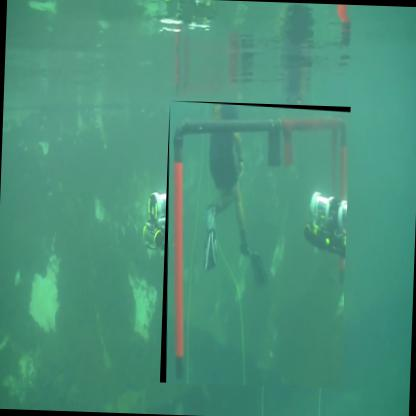gate: (161, 102, 353, 391)
